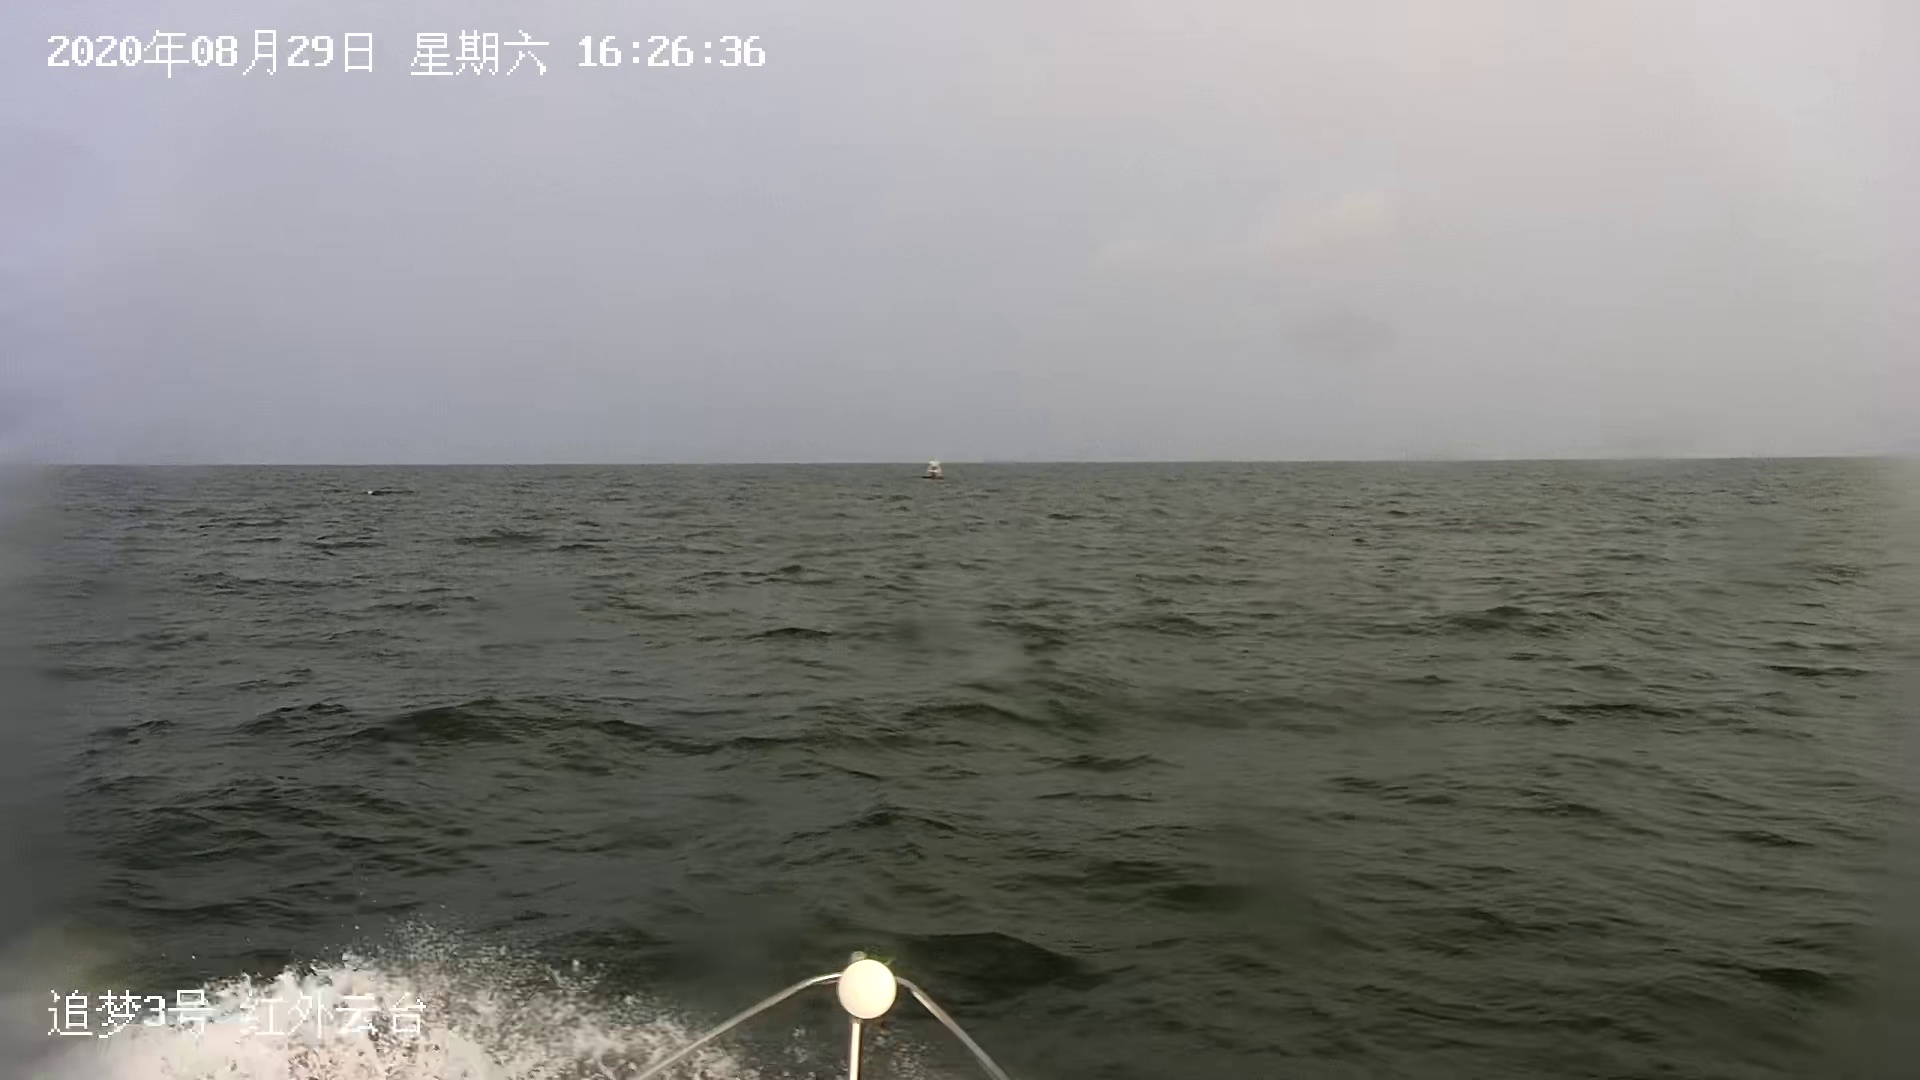barrier: (918, 456, 942, 483)
